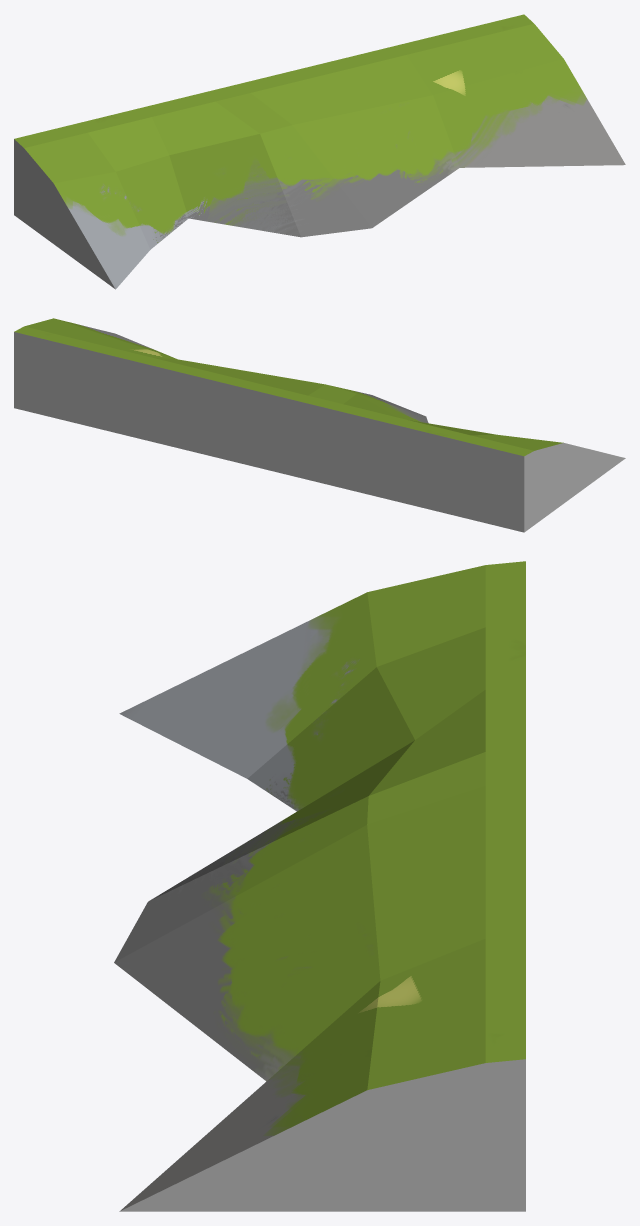
The model's file is mountain2Top.fbx.
The picture shows the model from 3 angles, top to bottom: view 1: azimuth 30°, elevation 25°; view 2: azimuth 150°, elevation 25°; view 3: azimuth 270°, elevation 25°; orthographic projection. The views are drawn at different scales.
Visible parts, largest first — view 1: Mountain2 top; view 2: Mountain2 top; view 3: Mountain2 top.
Part boxes in pixels (x1,y1,x2,y2): Mountain2 top: (14, 14, 625, 289); Mountain2 top: (14, 318, 625, 532); Mountain2 top: (114, 561, 525, 1211).
Size of the model in its own units: 200 by 28.57 by 69.95.
